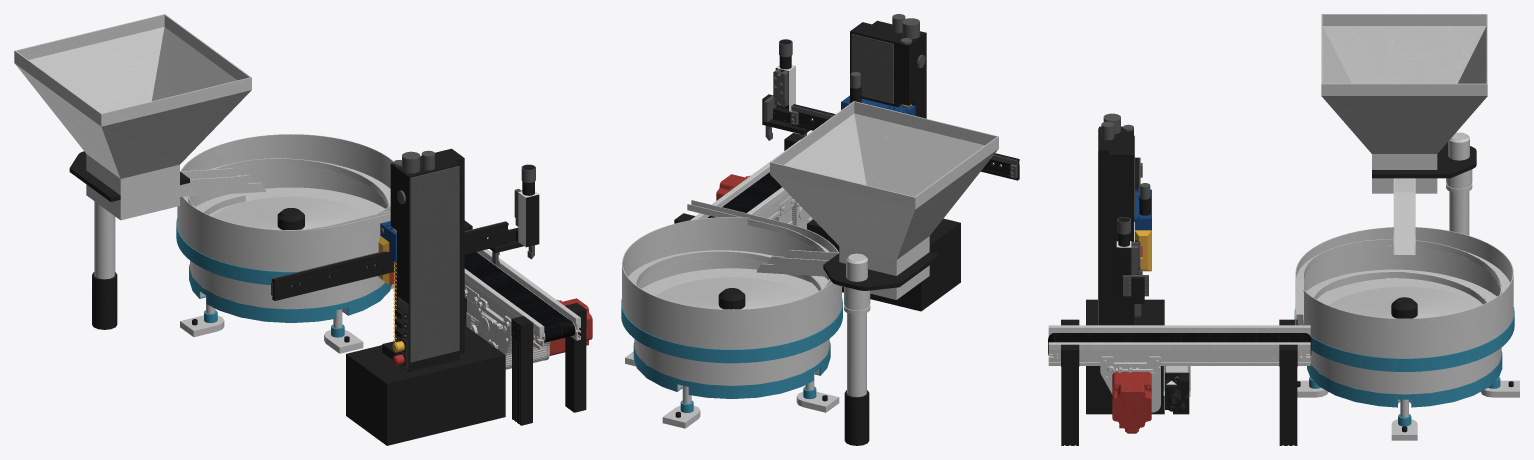
File: Wing_Conveyor_1_Station.glb
3 views of the same model, side by side, from view 1: azimuth 30°, elevation 25°; view 2: azimuth 150°, elevation 25°; view 3: azimuth 270°, elevation 25° (orthographic). The views are drawn at different scales.
Parts seen in each view (by area): view 1: color-47[17], color-47[25], color, color[26], color[25], color-5[3], color-47[24], color-44[7], color-47[4], color-47[26], color-43[2], color-43[1] (+12 smaller); view 2: color-47[17], color-47[25], color-47[24], color, color-47[23], color[25], color-47[26], color-47[4], color[24], color-47[18], color-47[21], color-47[22] (+10 smaller); view 3: color-47[17], color-47[25], color[25], color-47[24], color-47[26], color-47[23], color-44[1], color-44[7], color-47[4], color, color-44[6], color-44[5] (+14 smaller).
Boxes of the visible parts, box(x1,y1,x2,y2) form: color-47[17]: box(14, 14, 265, 220); color-47[25]: box(177, 134, 393, 271); color: box(346, 325, 505, 445); color[26]: box(410, 166, 459, 362); color[25]: box(390, 148, 464, 363); color-5[3]: box(272, 221, 508, 300); color-47[24]: box(190, 260, 384, 313); color-44[7]: box(464, 252, 575, 342); color-47[4]: box(189, 264, 391, 322); color-47[26]: box(183, 158, 390, 229); color-43[2]: box(511, 316, 533, 425); color-43[1]: box(565, 303, 586, 412); color-47[17]: box(756, 101, 998, 299); color-47[25]: box(622, 217, 841, 349); color-47[24]: box(634, 339, 829, 389); color: box(807, 218, 960, 311); color-47[23]: box(621, 298, 842, 363); color[25]: box(850, 20, 926, 118); color-47[26]: box(628, 200, 831, 290); color-47[4]: box(633, 342, 830, 398); color[24]: box(851, 34, 893, 103); color-47[18]: box(823, 252, 938, 290); color-47[21]: box(847, 313, 866, 396); color-47[22]: box(844, 390, 869, 445); color-47[17]: box(1321, 14, 1487, 256); color-47[25]: box(1295, 227, 1513, 358); color[25]: box(1099, 126, 1133, 325); color-47[24]: box(1310, 347, 1501, 402); color-47[26]: box(1295, 239, 1509, 326); color-47[23]: box(1294, 307, 1514, 371); color-44[1]: box(1079, 350, 1279, 365); color-44[7]: box(1048, 333, 1311, 355); color-47[4]: box(1307, 351, 1502, 407); color: box(1086, 299, 1164, 414); color-44[6]: box(1112, 372, 1151, 433); color-44[5]: box(1048, 325, 1310, 332).
Bounding box in the file's own units: 0.9679 × 0.68 × 1.08.
Materials: 10 (9 with a texture image).
